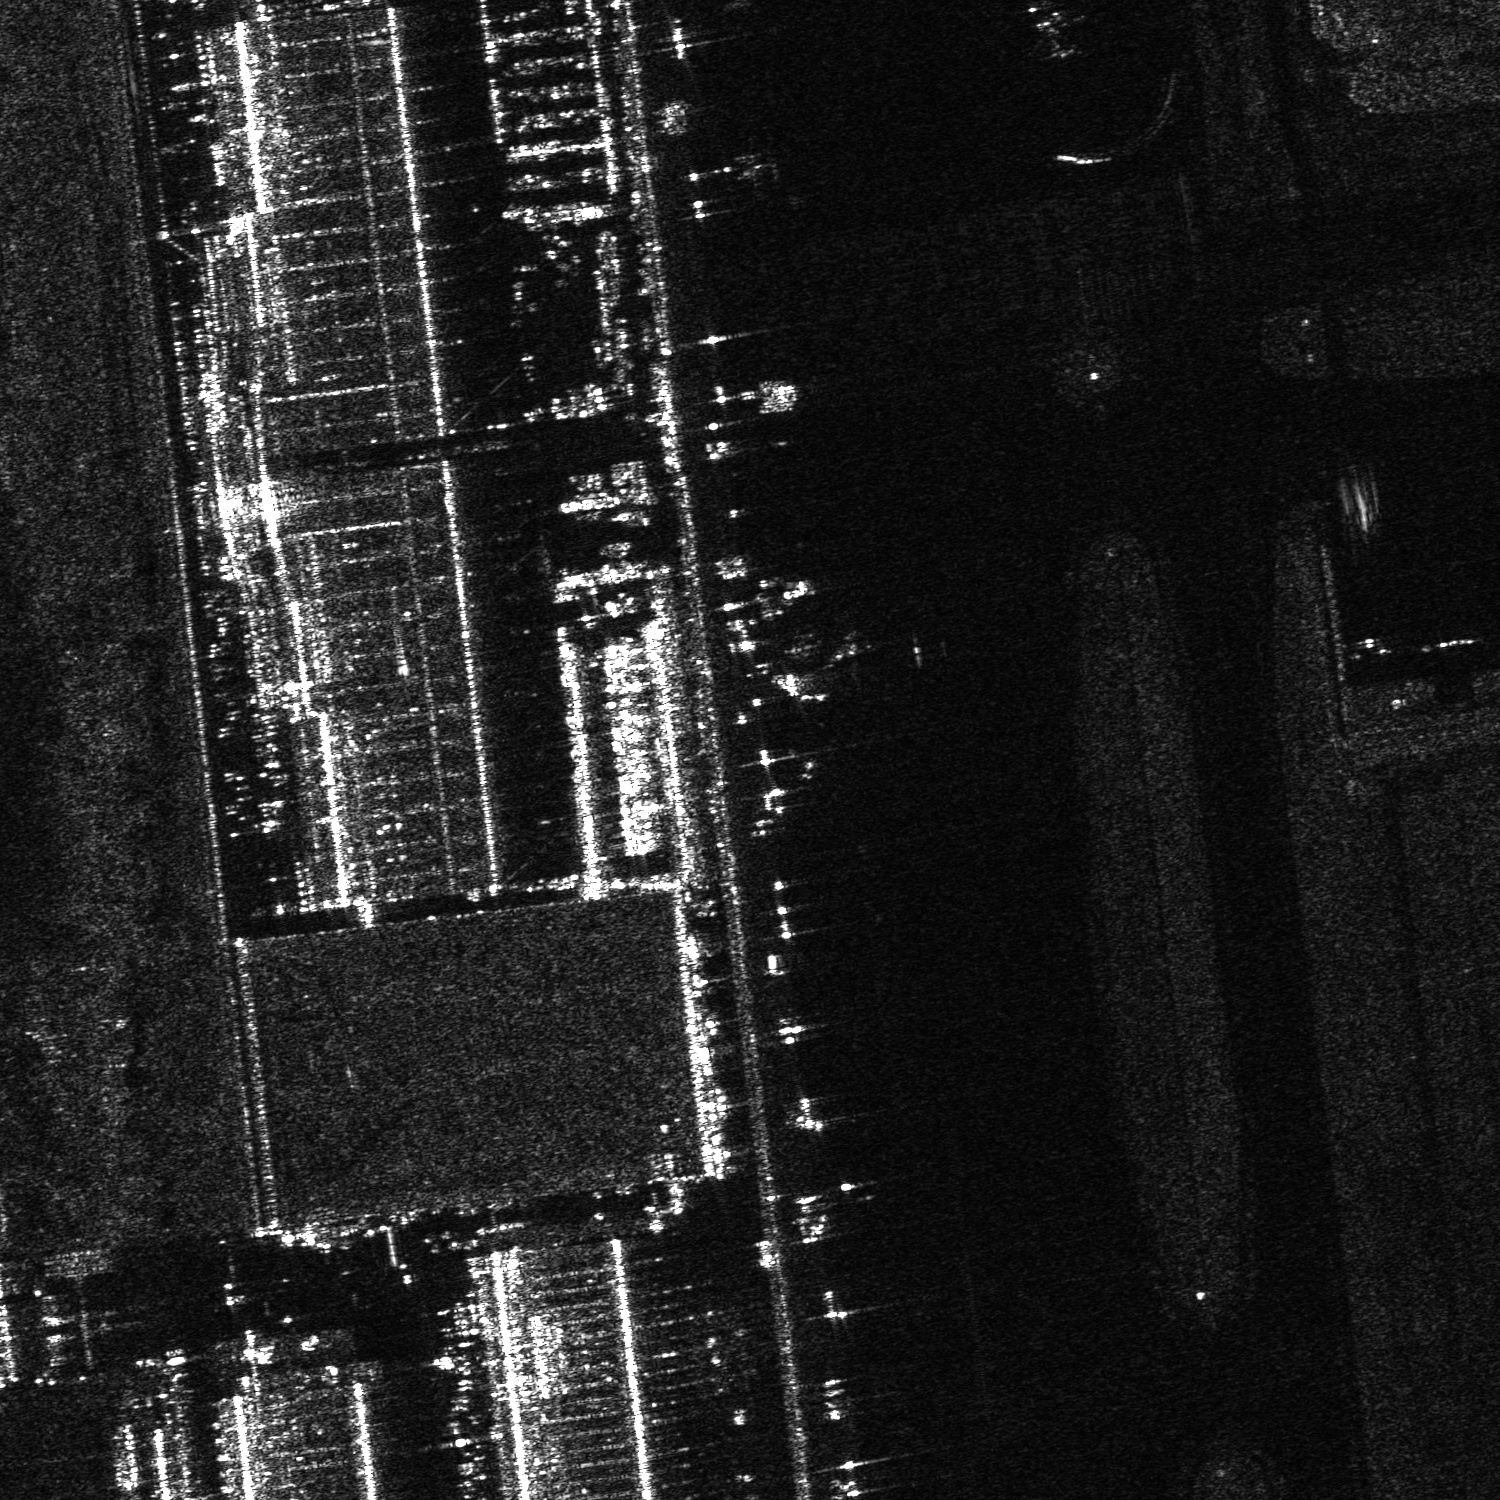A220: (1026, 8, 1085, 60)
